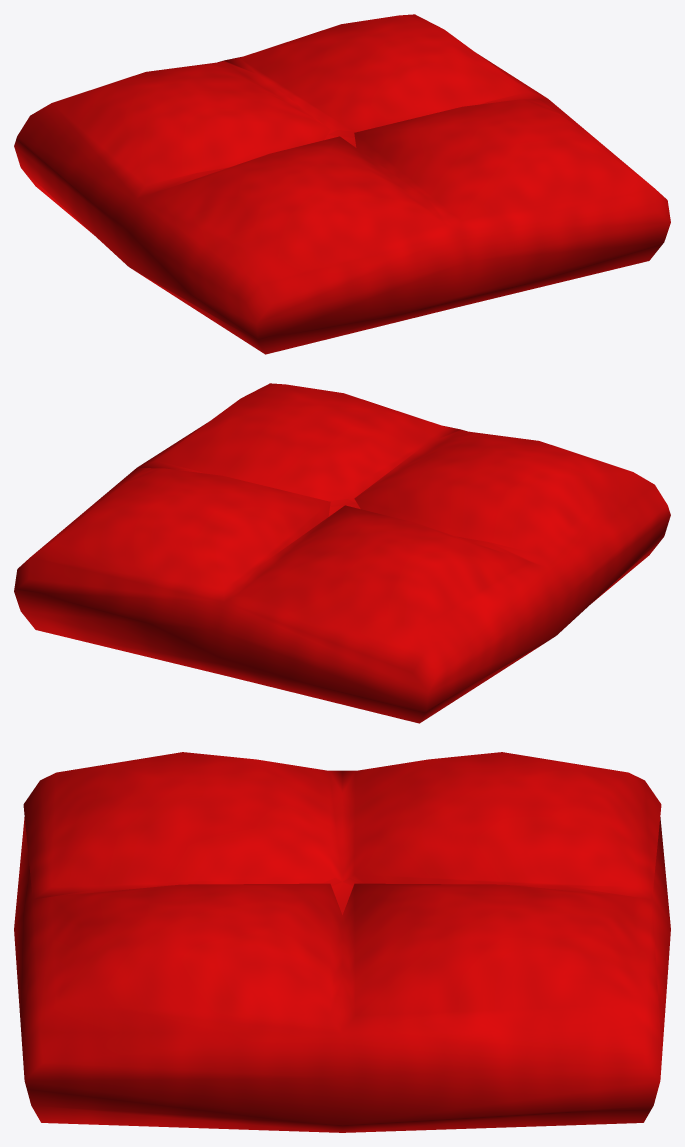
File: zabuton.fbx
3 renders of one model, top to bottom at view 1: azimuth 30°, elevation 25°; view 2: azimuth 150°, elevation 25°; view 3: azimuth 270°, elevation 25°, orthographic. The views are drawn at different scales.
Parts seen in each view (by area): view 1: Zabuton; view 2: Zabuton; view 3: Zabuton.
Boxes of the visible parts, x1,y1,x2,y2 form: Zabuton: [14, 14, 670, 354]; Zabuton: [14, 383, 670, 723]; Zabuton: [14, 752, 670, 1132].
Bounding box in the file's own units: 0.5 × 0.131 × 0.493.
